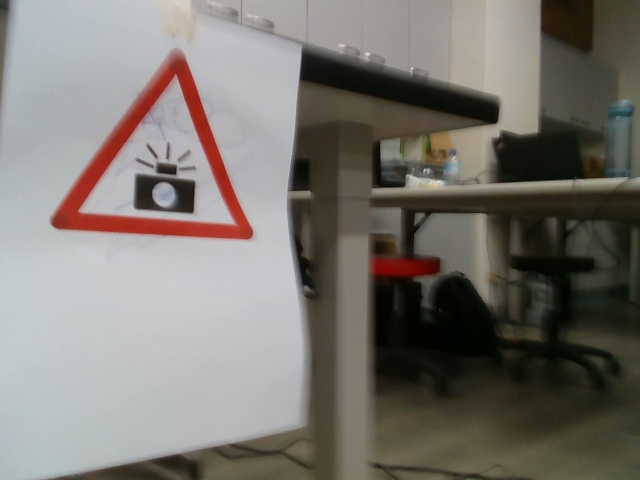camera: (50, 47, 257, 242)
